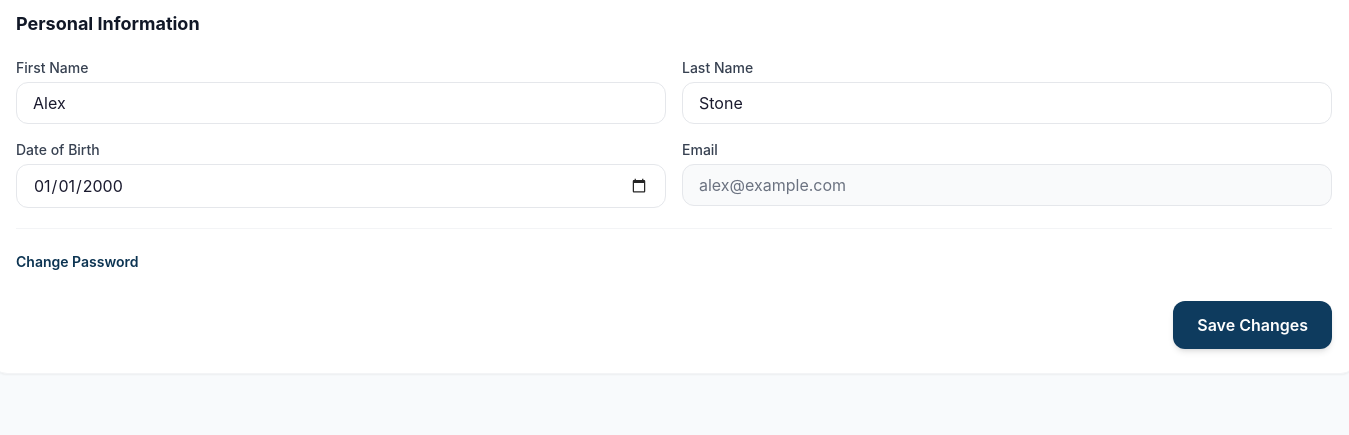
Scenario: ProfileEditForm submit flow › shows full success when profile save succeeds
The image size is (1349, 435).
Click the button with test id "profile-save": coordinates (1253, 325) x1=1173 y1=301 x2=1332 y2=349
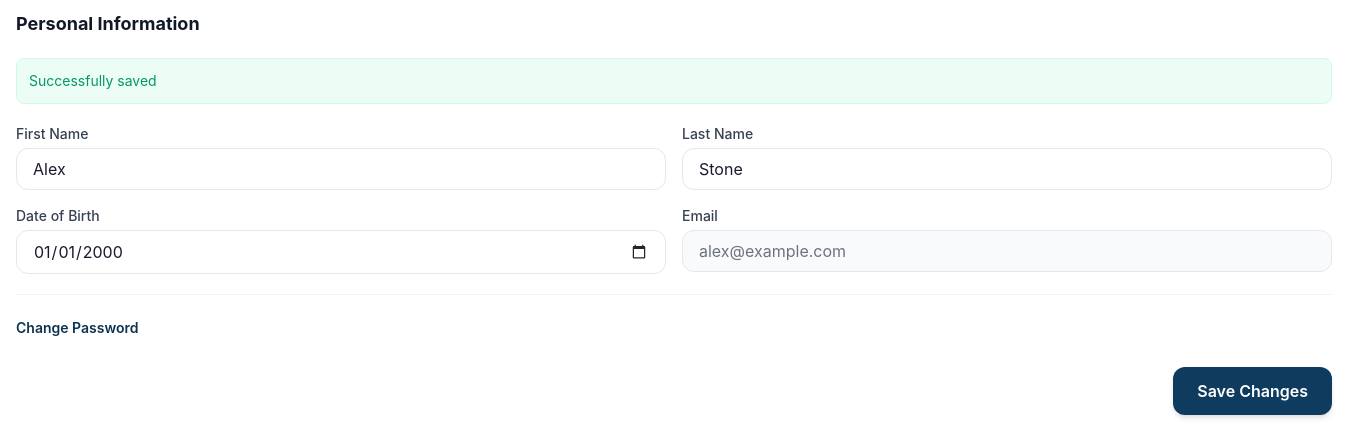
Expected: the text "Successfully saved" is shown, x1=16 y1=58 x2=1332 y2=104
